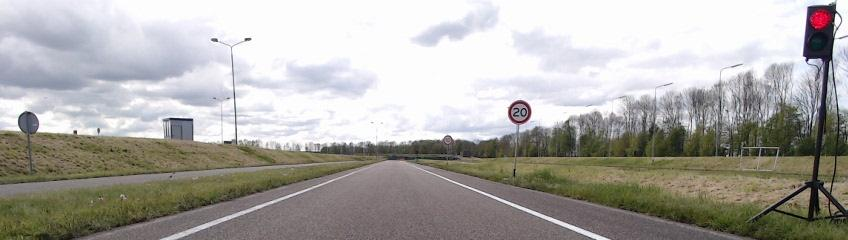Speed-limit-10km-h-: (443, 135, 453, 145)
Speed-limit-20km-h-: (508, 100, 531, 125)
TrafficLight-red: (805, 5, 834, 59)
